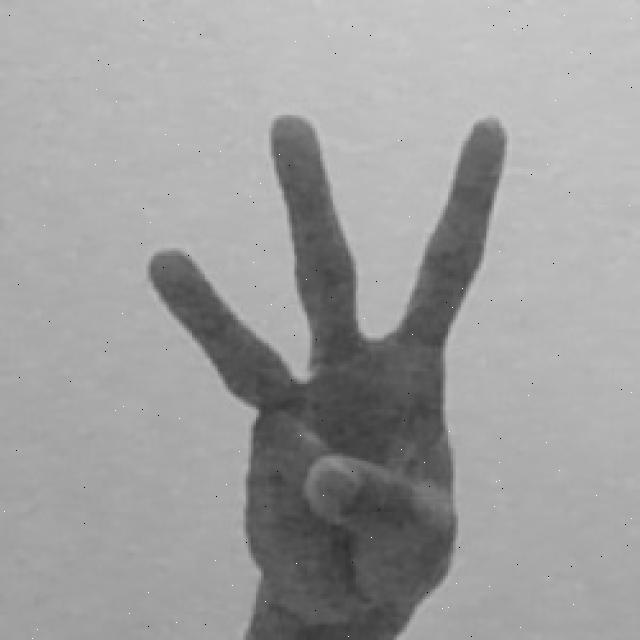W: (134, 104, 518, 632)
